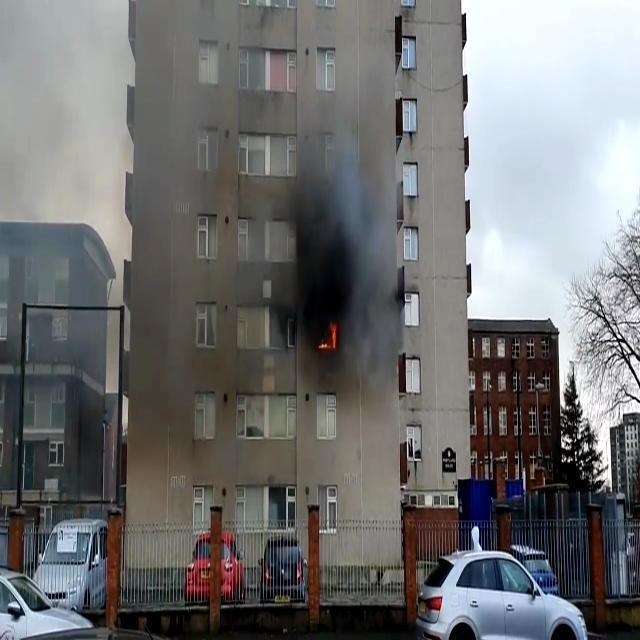Fire: (316, 324, 340, 352)
Smoke: (0, 39, 205, 468), (255, 63, 413, 426)
